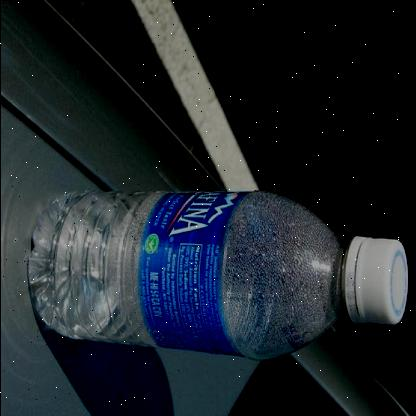Plastic Bottle: (27, 191, 408, 360)
